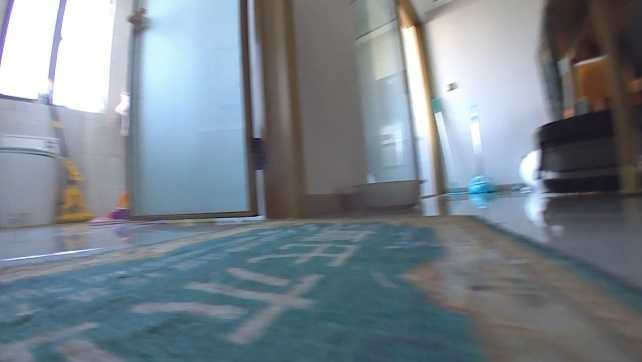blanket: (0, 212, 642, 360)
door_anno: (123, 0, 265, 221)
toilet: (0, 132, 63, 229)
